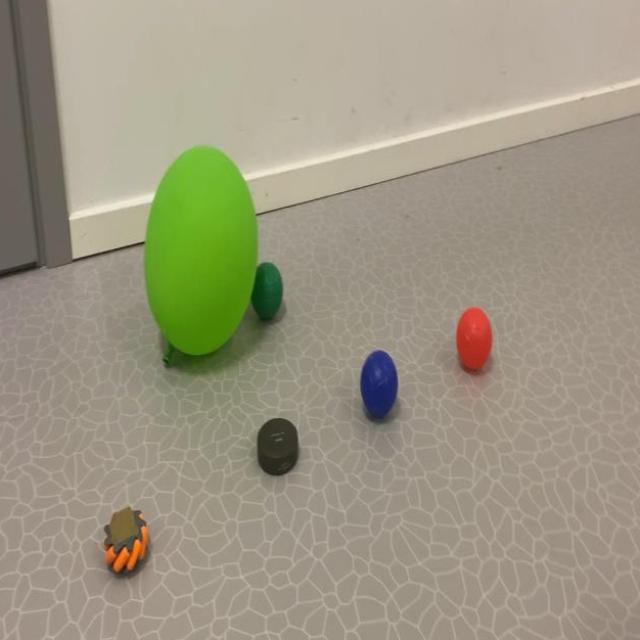blue ball: (351, 353, 402, 418)
green ball: (260, 258, 286, 330)
red ball: (454, 313, 494, 378)
